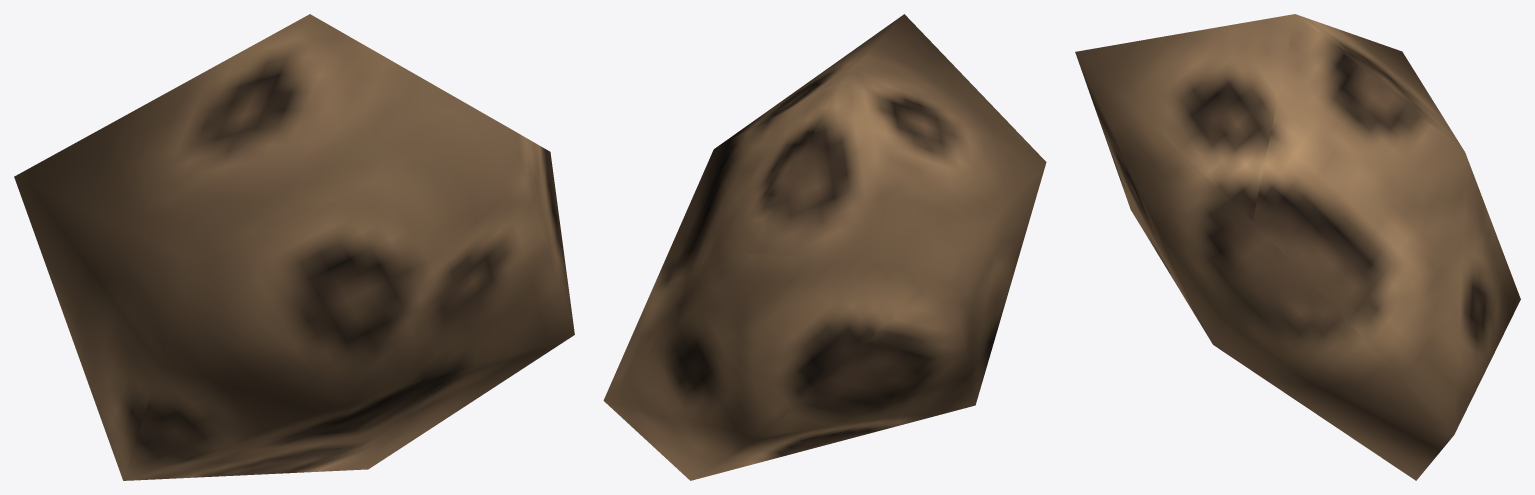
File: Asteroid_07.FBX
The picture shows the model from 3 angles, left to right: view 1: azimuth 30°, elevation 25°; view 2: azimuth 150°, elevation 25°; view 3: azimuth 270°, elevation 25°; orthographic projection. The views are drawn at different scales.
Visible parts, largest first — view 1: Asteroid_07; view 2: Asteroid_07; view 3: Asteroid_07.
Part boxes in pixels (x1,y1,x2,y2): Asteroid_07: (14, 14, 574, 480); Asteroid_07: (603, 14, 1046, 480); Asteroid_07: (1075, 14, 1520, 480).
Size of the model in its own units: 22.62 by 24.84 by 25.55.
